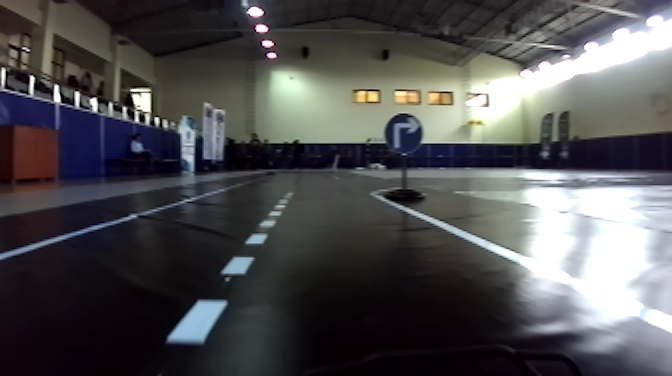saga_donus: (385, 115, 423, 153)
